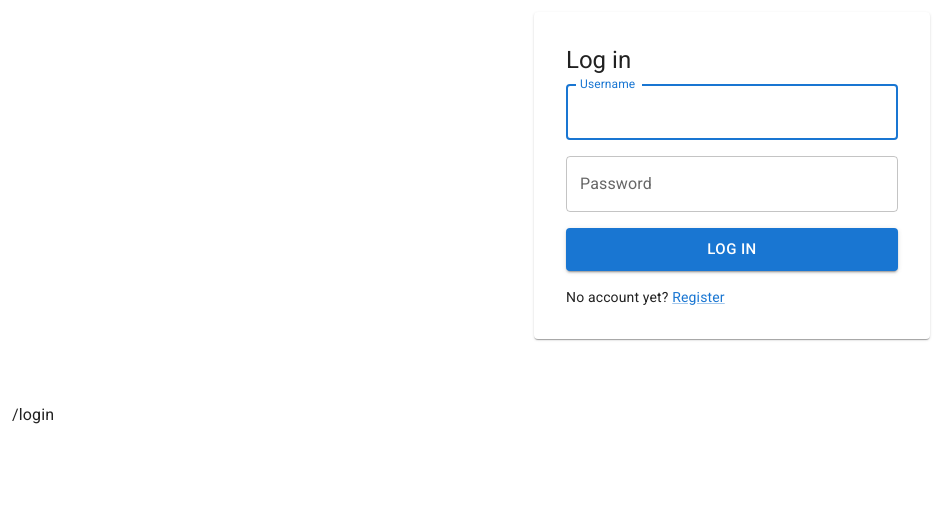
Test case: LoginPage › says so when the credentials are wrong, and lets the user try again
The width and height of the screenshot is (948, 505).
Check: the heading "Log in" is shown, box x1=566 y1=46 x2=631 y2=74
Type "alice" into the field labelled "Username" at (732, 112), box x1=566 y1=84 x2=898 y2=140
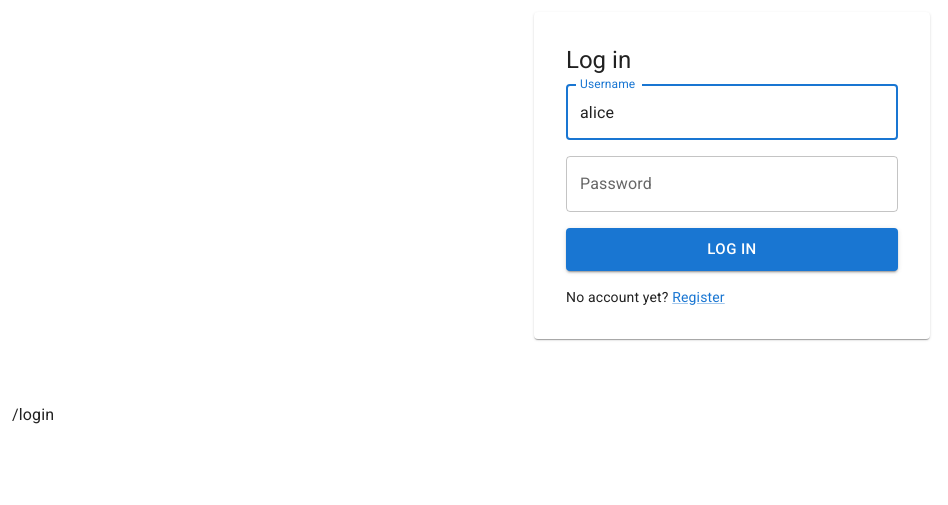
Type "wrong-password" into the password field labelled "Password" at (732, 184), box x1=566 y1=156 x2=898 y2=212
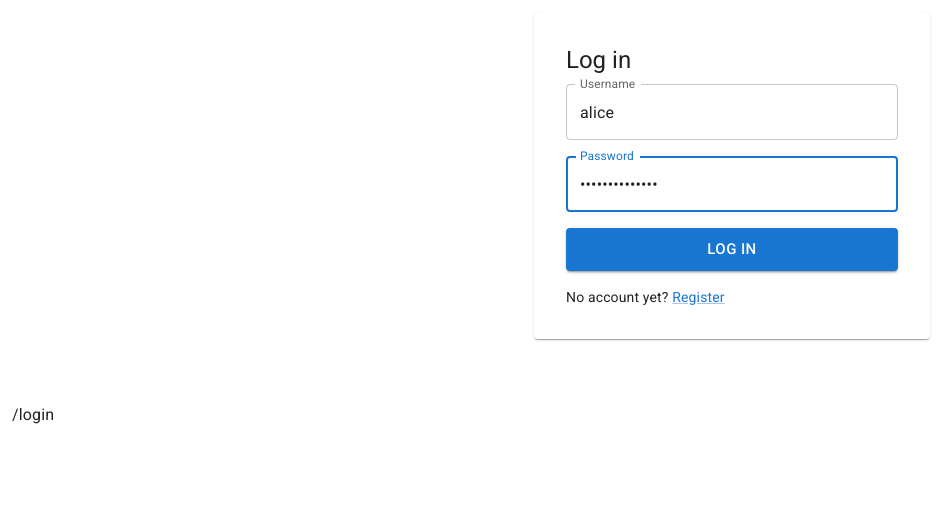
Click the button "Log in" at (732, 250), box x1=566 y1=228 x2=898 y2=271
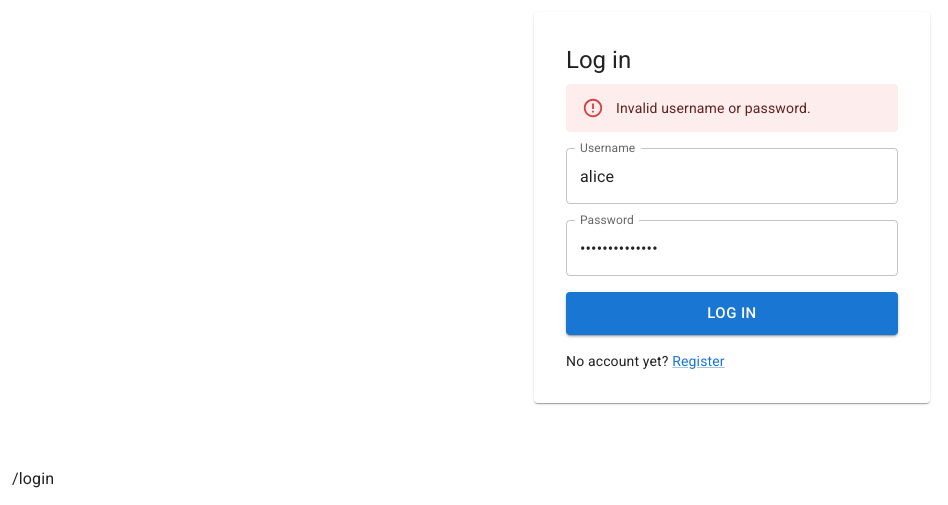
Check: the button "Log in" is enabled, box x1=566 y1=292 x2=898 y2=335
Check: the message reads "Invalid username or password.", box x1=616 y1=100 x2=811 y2=116
